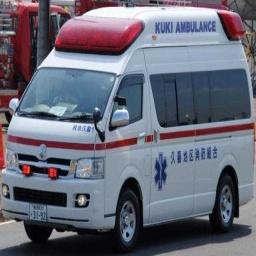ambulance: (2, 7, 254, 251), (0, 0, 38, 118), (74, 0, 227, 15)
